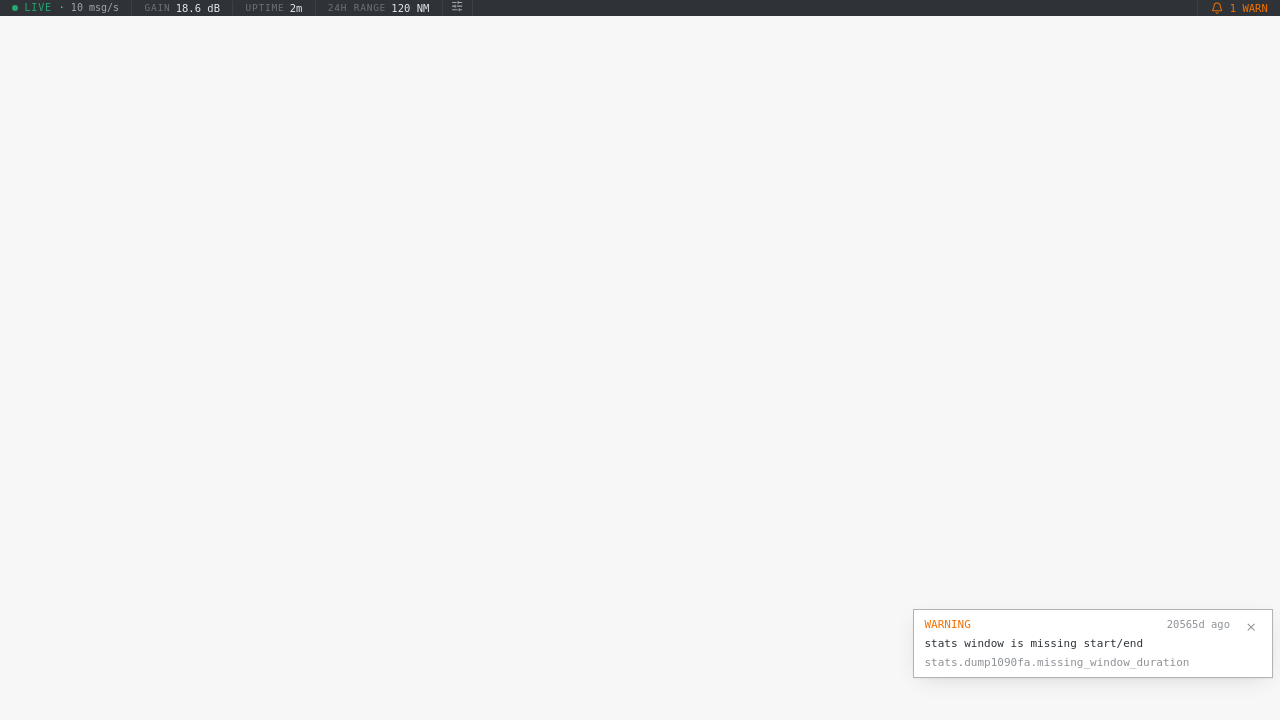
Test: StatusBar › opens the diagnostics panel on the popup diagnostic
This screenshot has width=1280, height=720.
Click the button with aria-label "Open diagnostic details" at (1077, 643), box [924,617,1230,670]
Wait 3000 ms
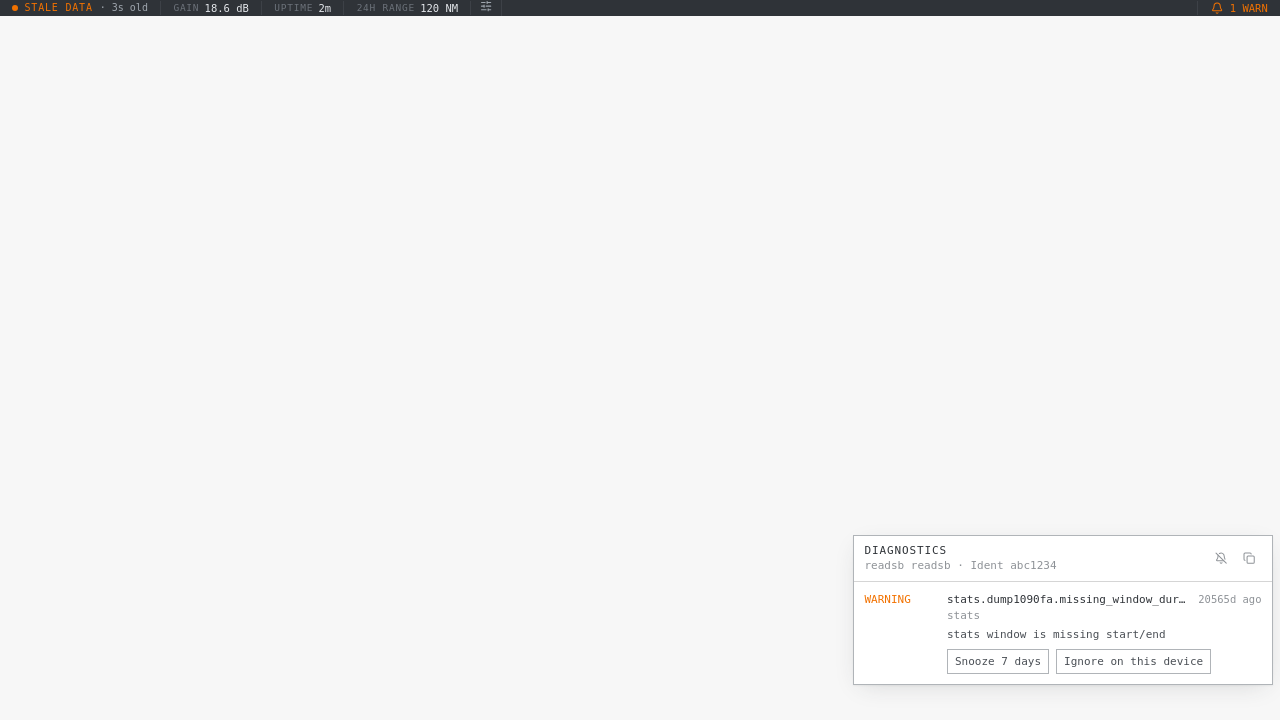
Expected: the dialog shows "stats window is missing start/end", [947,628,1166,641]
Expected: the element with test id "notification-popup" is gone
